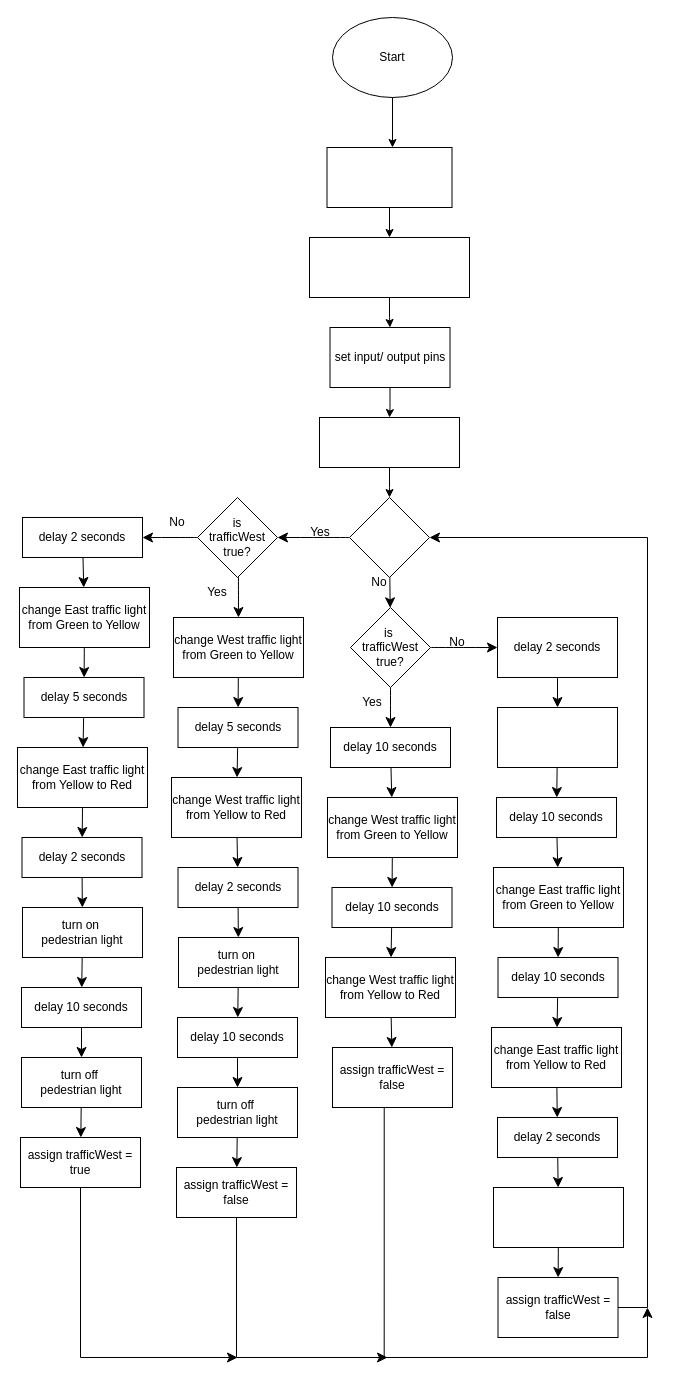
The diagram is 675 pixels wide and 1385 high, and some of its shapes have lost their labels. Each missing label, with the centre of its shape:
assign trafficWest to true assign integers flowTime and changeDelay: the point at 389,267
change East light from Red to Green: the point at 557,737
change West traffic light from Red to Green: the point at 558,1217
define LED pins and button pin: the point at 389,177
is button pushed?: the point at 389,537
set starting state for LEDs: the point at 389,442
